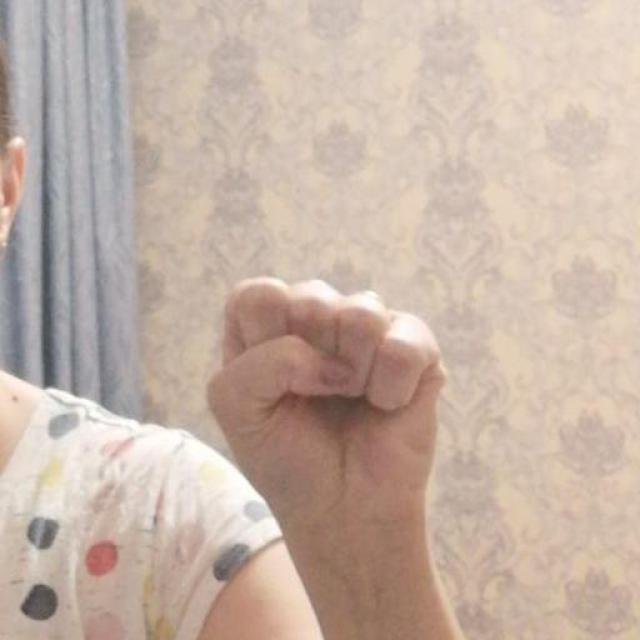hand: (206, 274, 476, 638)
